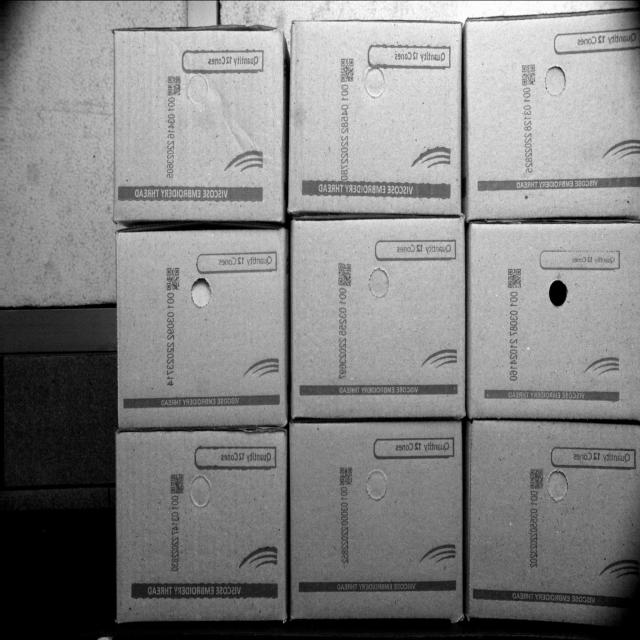cardboxes: (465, 15, 640, 221), (290, 420, 463, 618), (470, 423, 640, 623), (288, 18, 461, 212), (116, 228, 285, 424), (291, 219, 462, 412), (466, 224, 640, 413), (112, 25, 280, 219), (115, 431, 284, 622)
